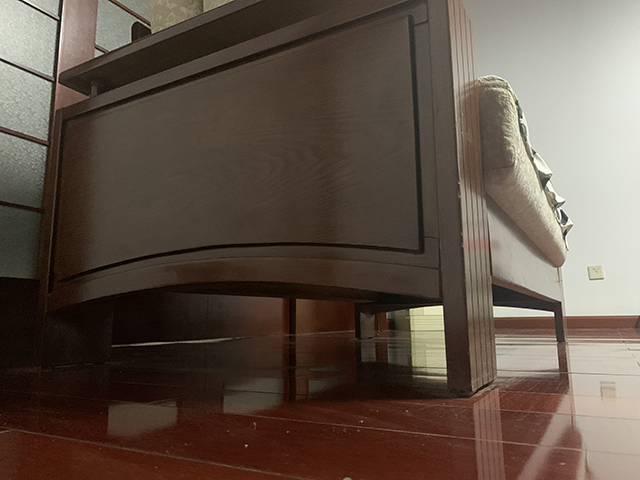sofa: (25, 1, 574, 399)
